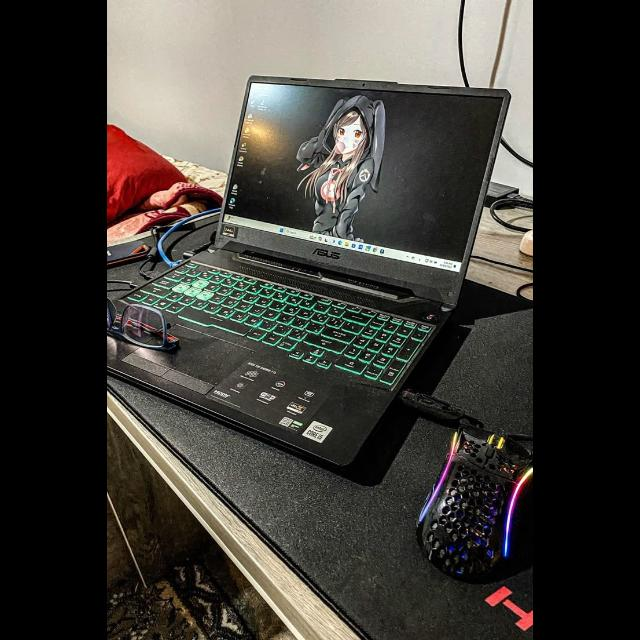laptop: (107, 77, 509, 468)
